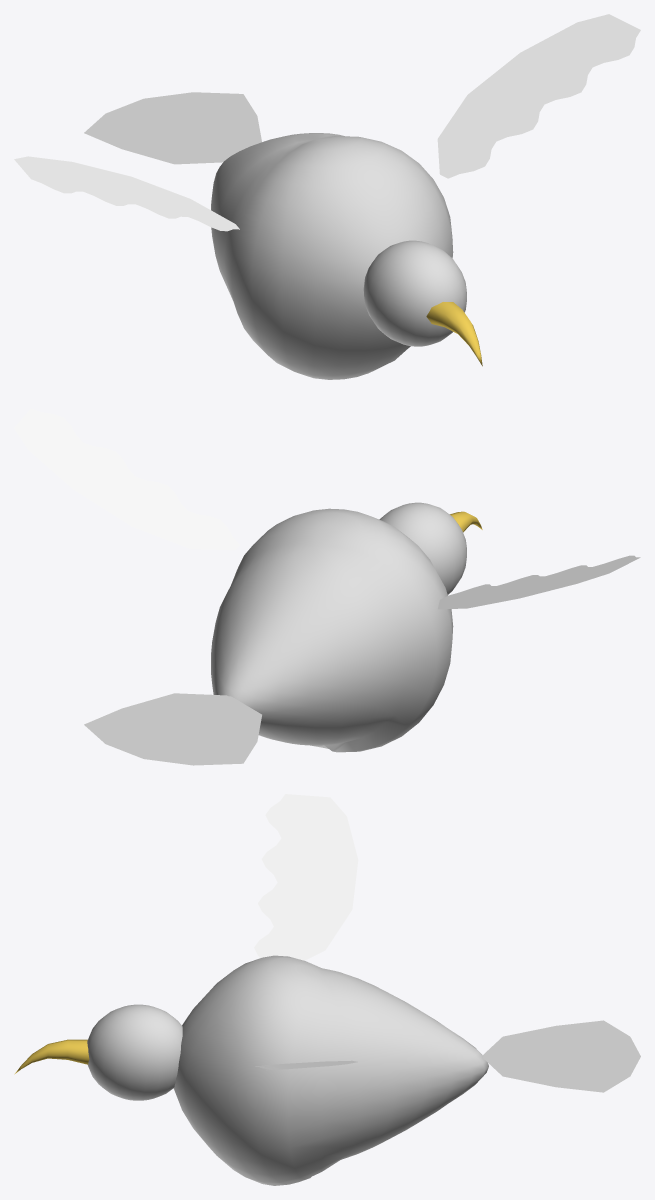
Rendered from bird.glb.
3 renders of one model, top to bottom at view 1: azimuth 30°, elevation 25°; view 2: azimuth 150°, elevation 25°; view 3: azimuth 270°, elevation 25°, orthographic. The views are drawn at different scales.
Parts seen in each view (by area): view 1: bird_body, bird_wings; view 2: bird_body, bird_wings; view 3: bird_body, bird_wings.
Boxes of the visible parts, x1=… form: bird_body: x1=84, y1=92, x2=482, y2=379; bird_wings: x1=14, y1=14, x2=640, y2=231; bird_body: x1=84, y1=502, x2=482, y2=765; bird_wings: x1=14, y1=408, x2=640, y2=609; bird_body: x1=14, y1=955, x2=640, y2=1185; bird_wings: x1=254, y1=794, x2=358, y2=1070.
Bounding box in the file's own units: 1.22 × 0.5074 × 1.18.
